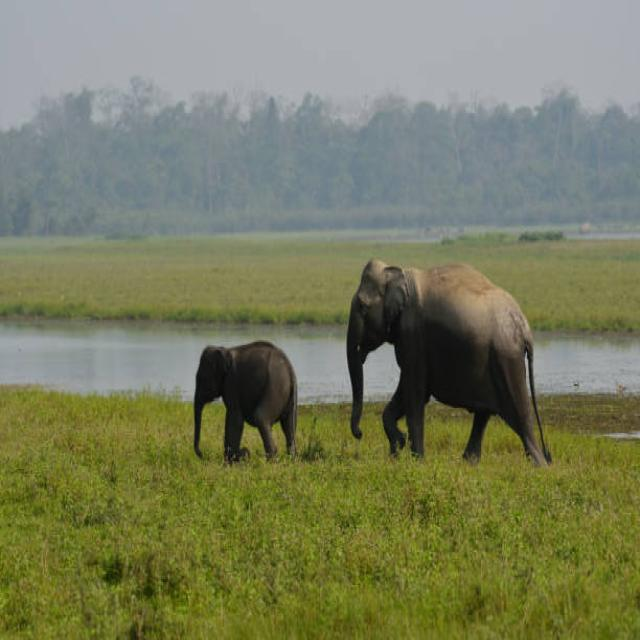Elephant: (344, 248, 557, 479), (188, 333, 314, 478)
